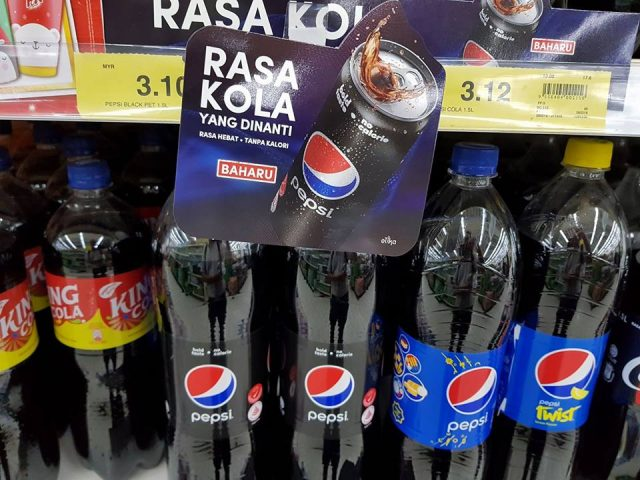pepsi: (302, 132, 360, 199), (537, 346, 594, 401), (183, 360, 235, 409), (448, 363, 497, 413), (304, 361, 354, 408)
